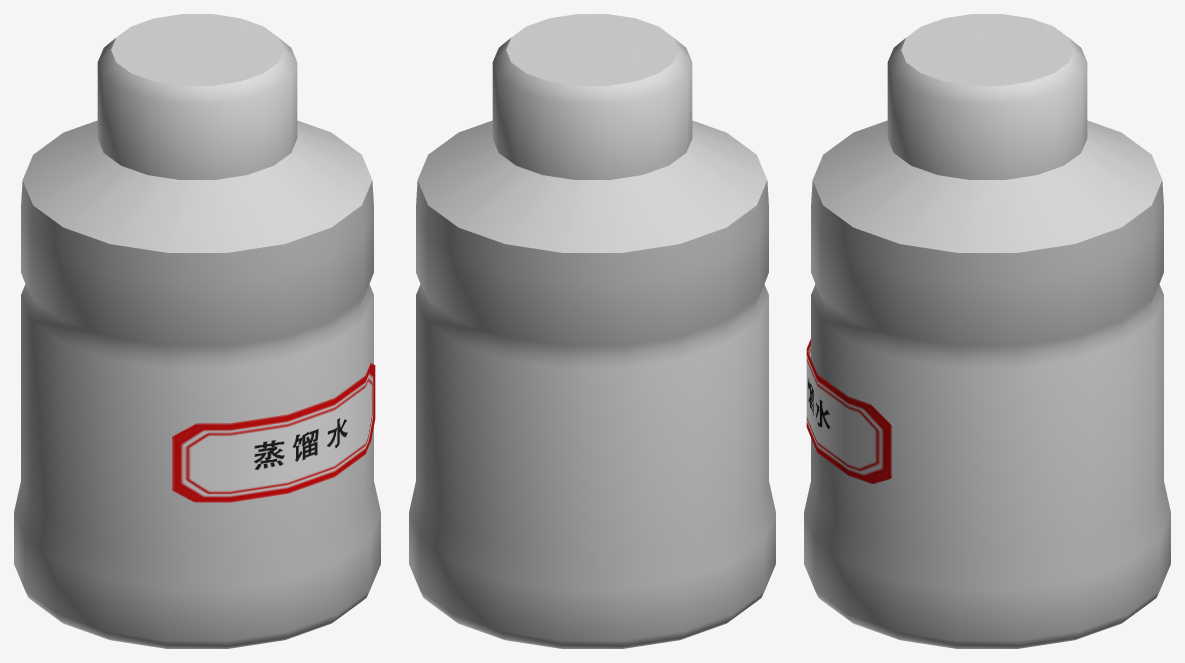
The model's file is SM_蒸馏水.FBX.
3 renders of one model, left to right at view 1: azimuth 30°, elevation 25°; view 2: azimuth 150°, elevation 25°; view 3: azimuth 270°, elevation 25°, orthographic.
Parts seen in each view (by area): view 1: SM_蒸馏水, SM_蒸馏水瓶塞; view 2: SM_蒸馏水, SM_蒸馏水瓶塞; view 3: SM_蒸馏水, SM_蒸馏水瓶塞.
Part boxes in pixels (left/top/right/bottom): SM_蒸馏水: left=14, top=120, right=380, bottom=648; SM_蒸馏水瓶塞: left=97, top=14, right=297, bottom=179; SM_蒸馏水: left=409, top=120, right=775, bottom=648; SM_蒸馏水瓶塞: left=492, top=14, right=692, bottom=179; SM_蒸馏水: left=804, top=120, right=1170, bottom=648; SM_蒸馏水瓶塞: left=887, top=14, right=1087, bottom=179.
Bounding box in the file's own units: 0.1368 × 0.2211 × 0.1389.
